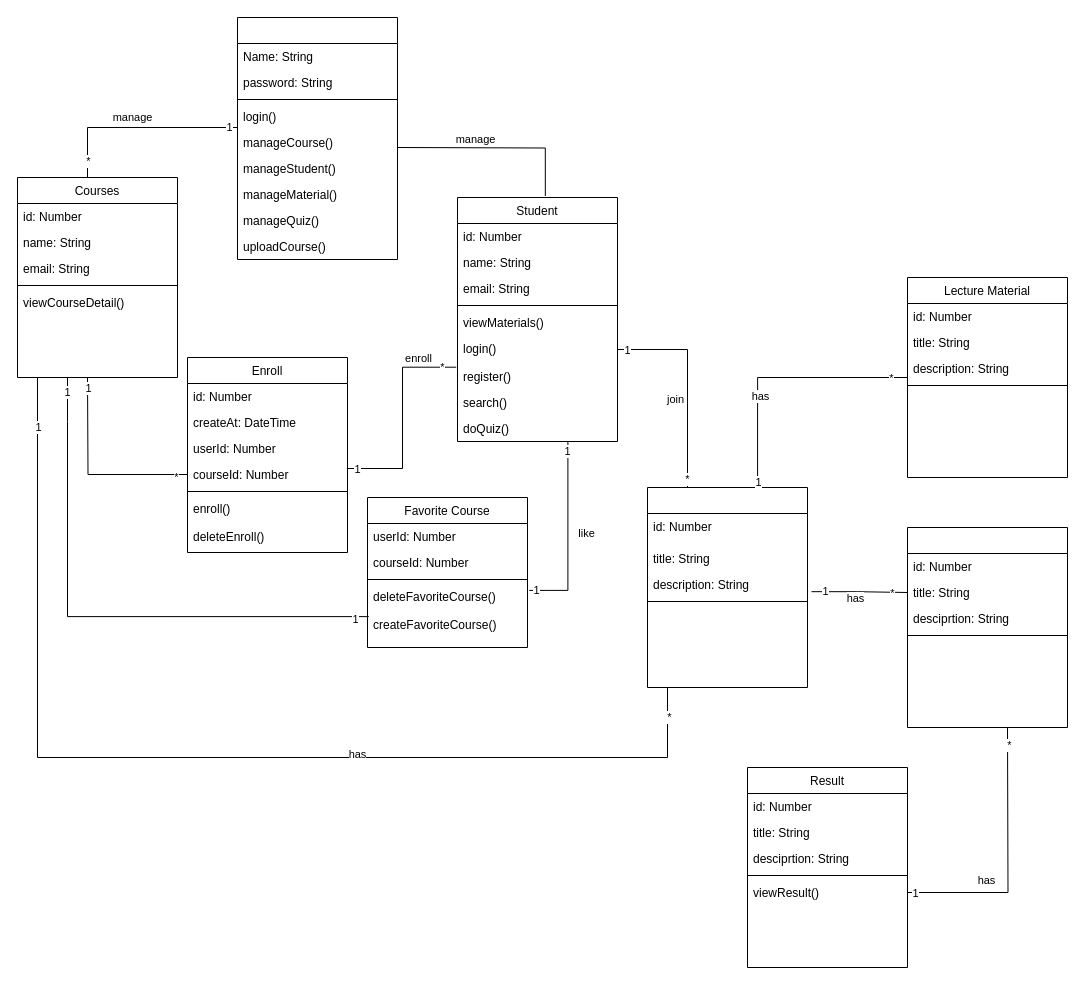
The diagram is 1085 pixels wide and 985 high, and some of its shapes have lost their labels. Here are the shapes that lost their labels. From the top down, the box of each, then its label:
(236, 16, 398, 260): Instructor
(646, 486, 808, 688): Lectures
(906, 526, 1068, 728): Quiz
